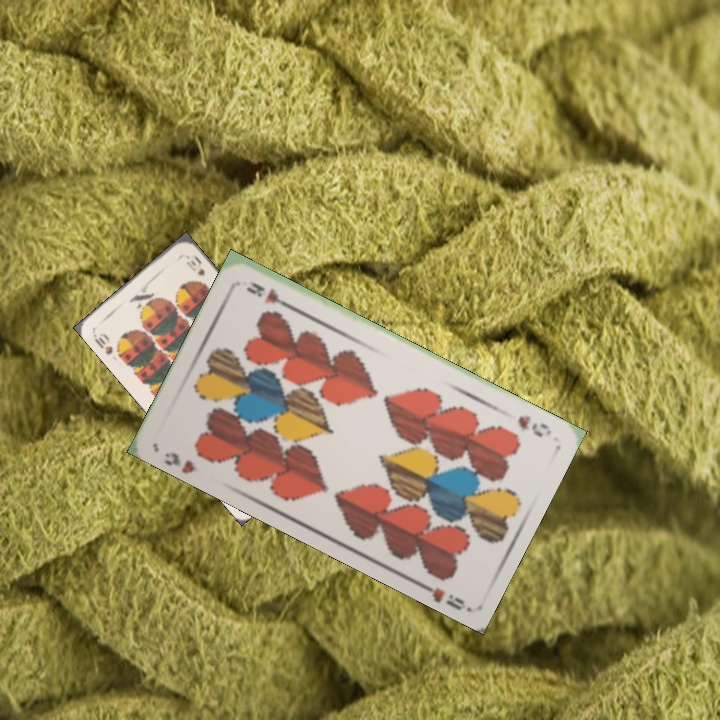H9: (513, 411, 554, 440), (161, 447, 198, 476)
S10: (89, 329, 116, 358)
